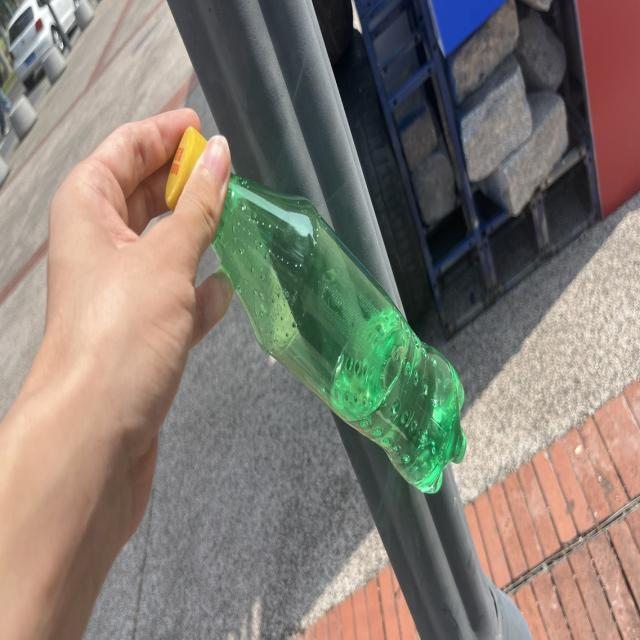medium: (212, 175, 466, 491)
